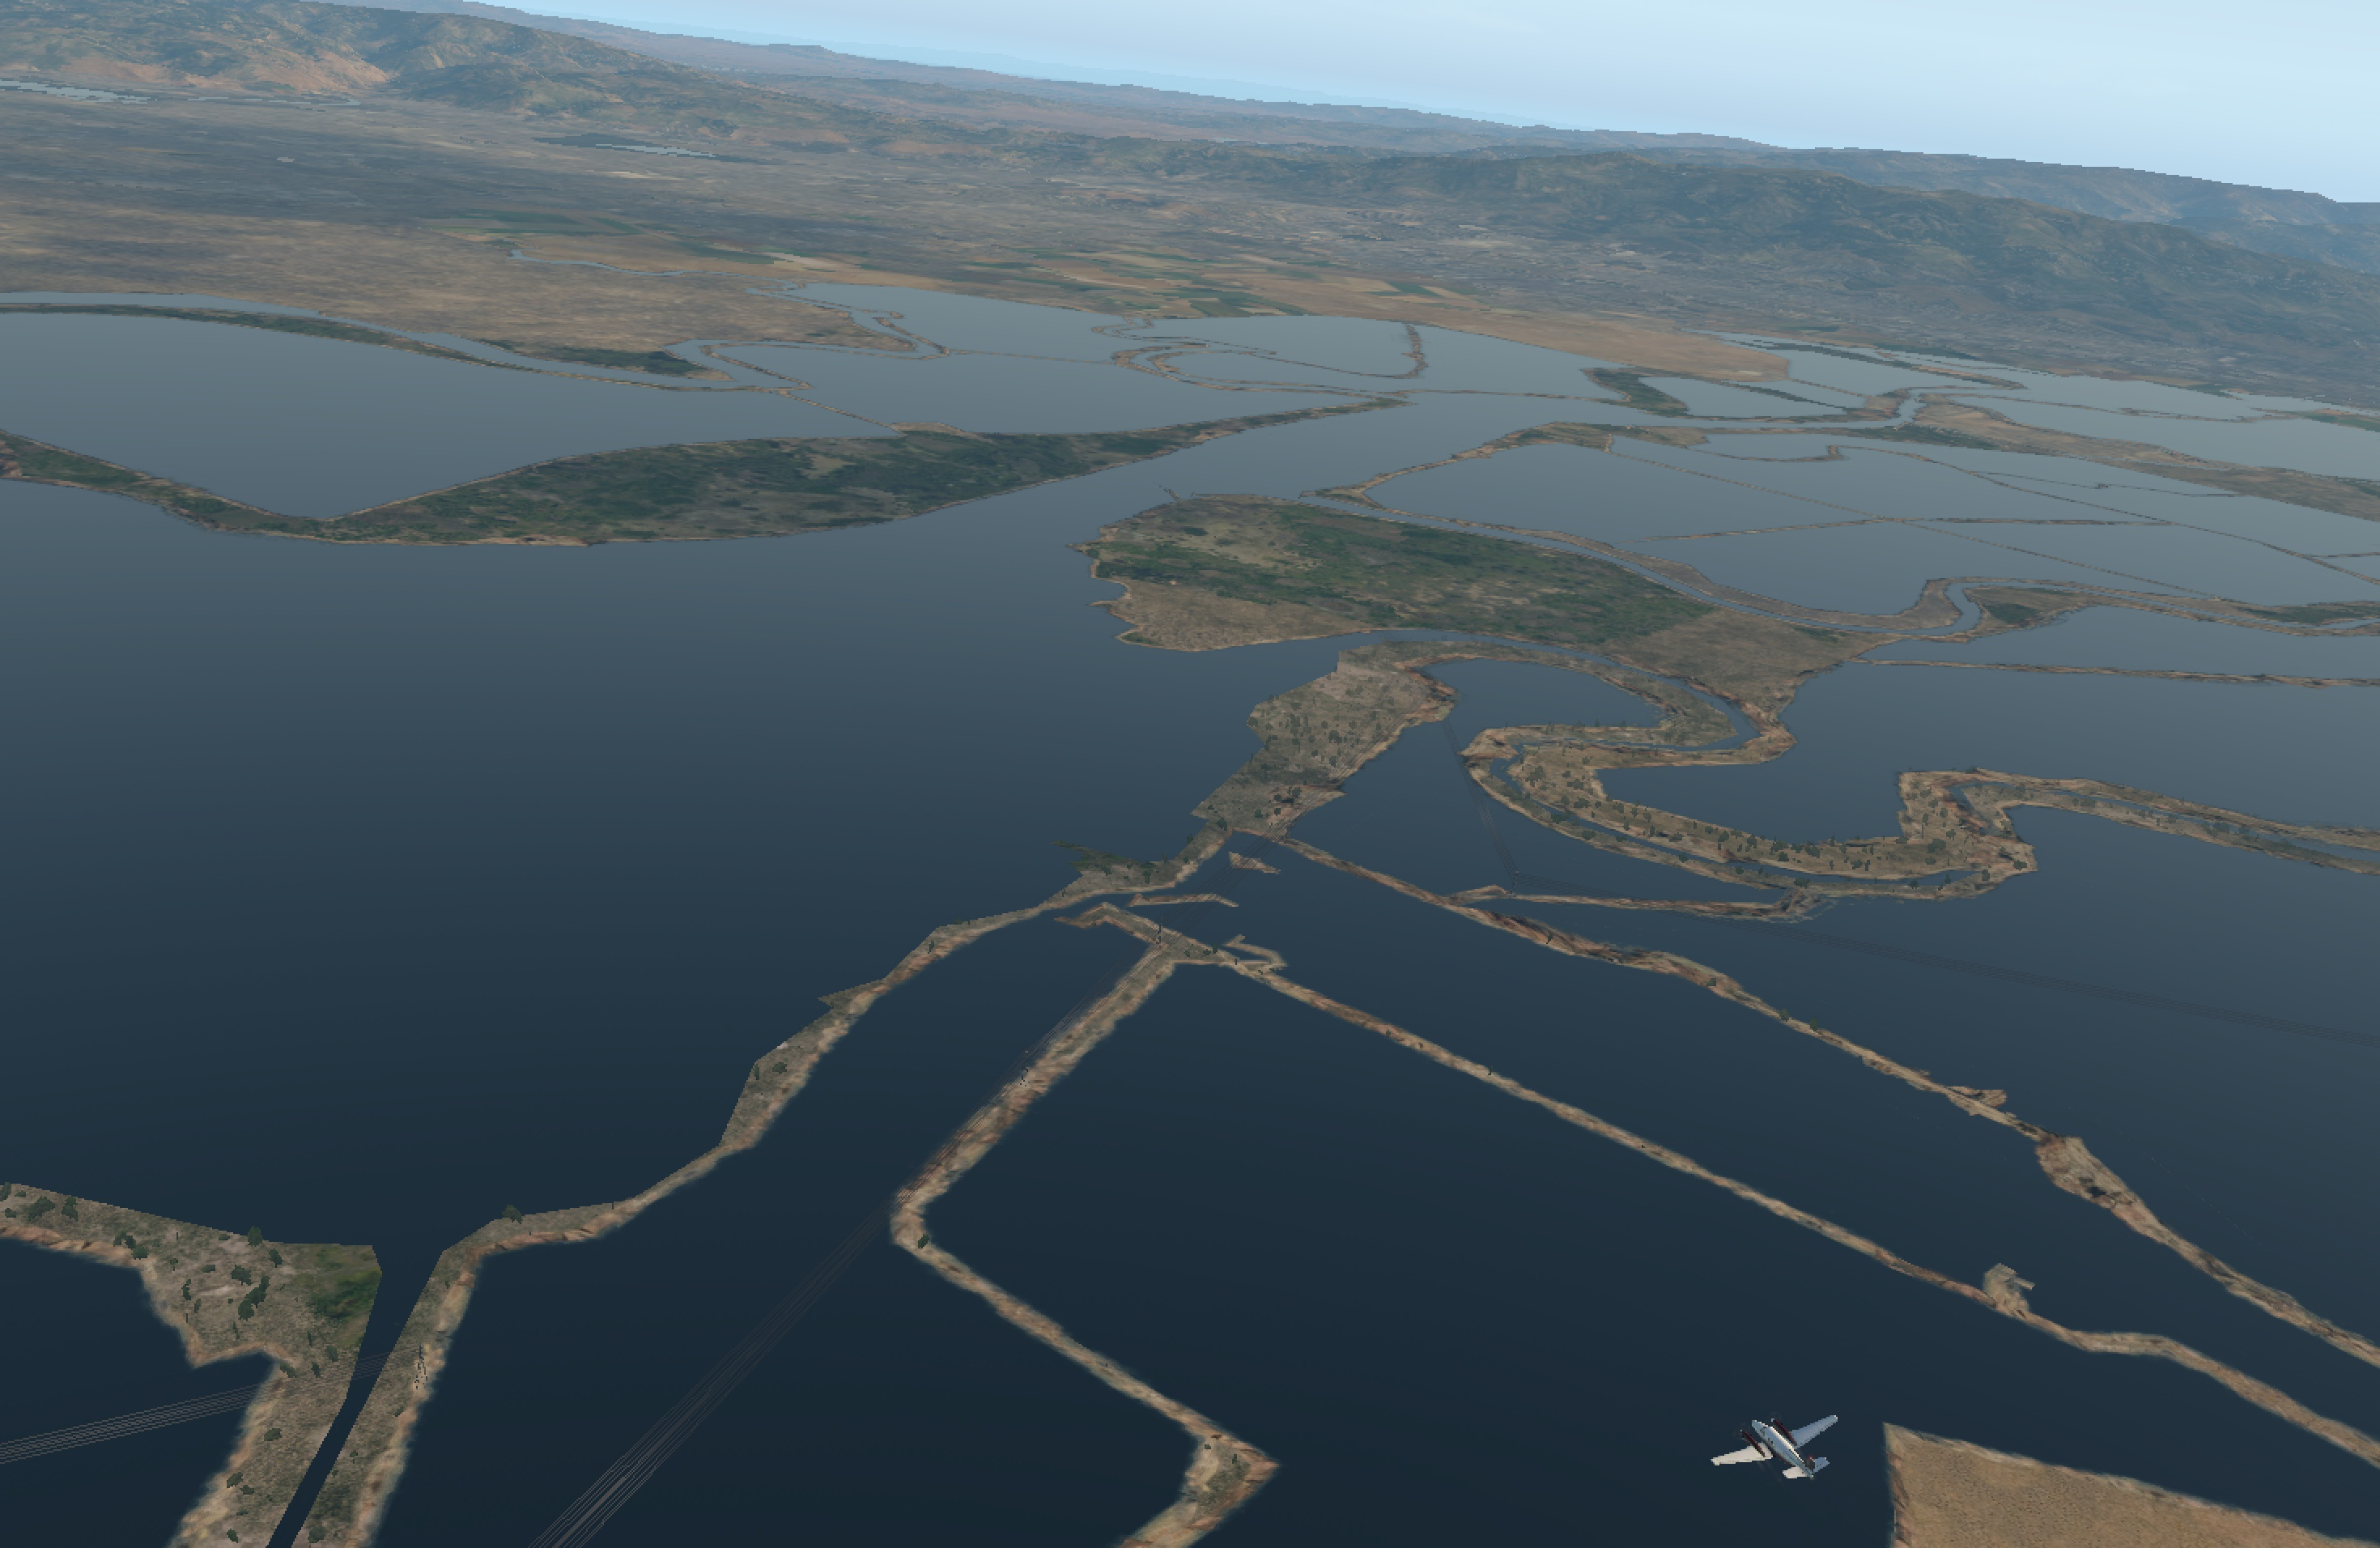aircraft: (1703, 1418, 1841, 1470)
